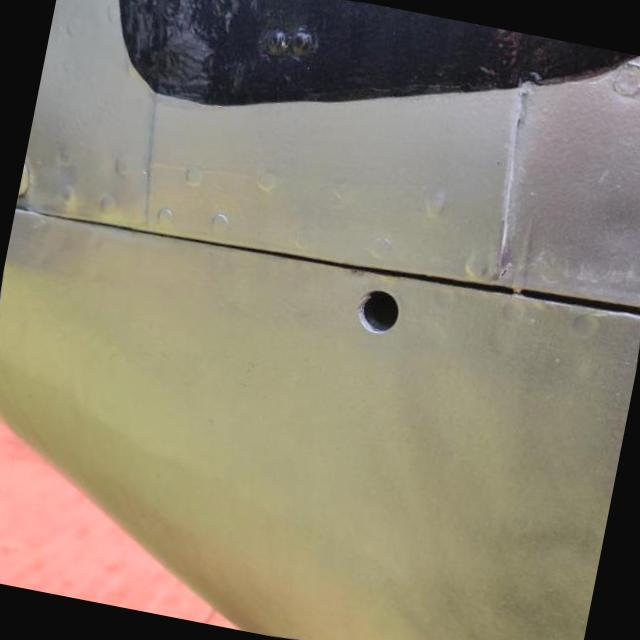Missing Fastener: (356, 286, 404, 336)
